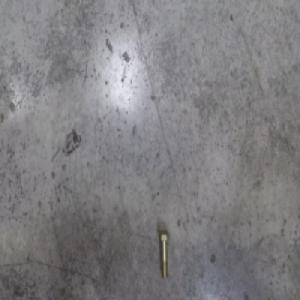Bolt: (158, 228, 170, 279)
